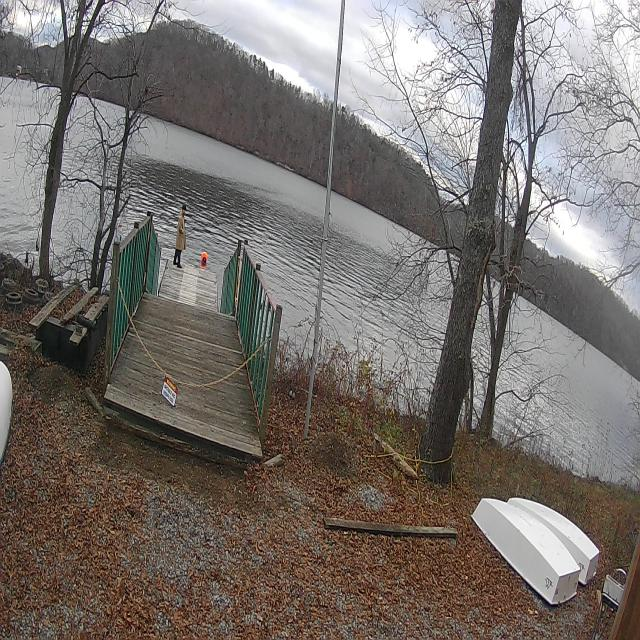Buoy: (196, 243, 212, 273)
